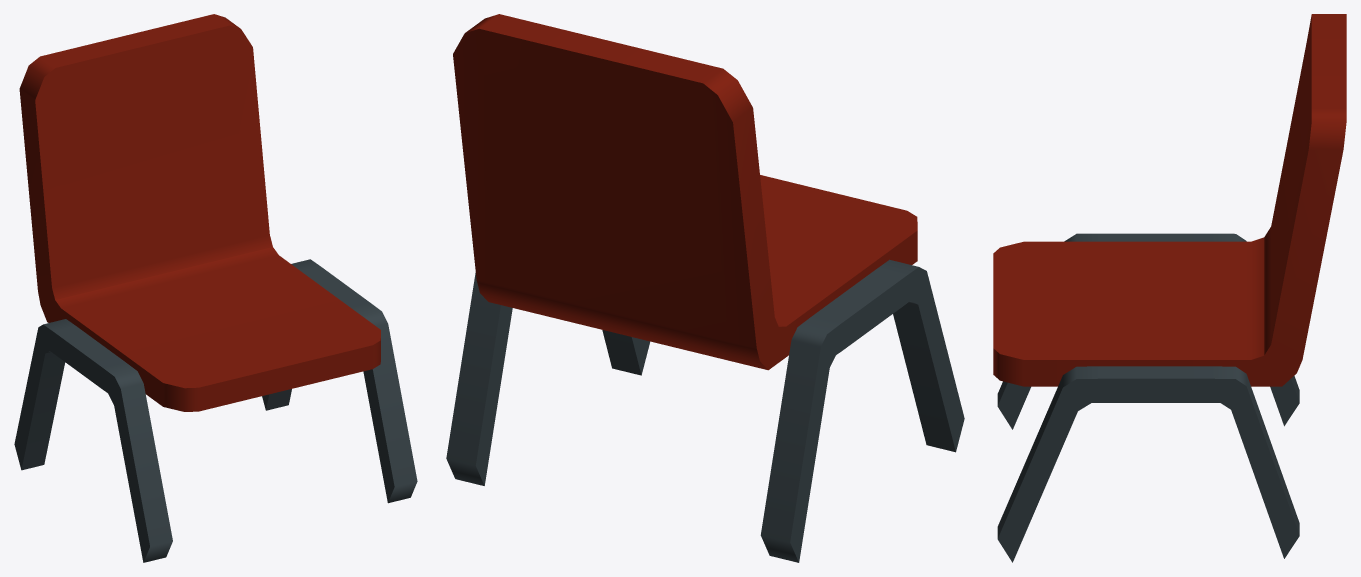
File: SM_Chair.fbx
The picture shows the model from 3 angles, left to right: view 1: azimuth 30°, elevation 25°; view 2: azimuth 150°, elevation 25°; view 3: azimuth 270°, elevation 25°; orthographic projection. The views are drawn at different scales.
Parts seen in each view (by area): view 1: SM_Chair; view 2: SM_Chair; view 3: SM_Chair.
Part boxes in pixels (box(x1,y1,x2,y2)): SM_Chair: box(14, 14, 417, 562); SM_Chair: box(446, 14, 964, 562); SM_Chair: box(993, 14, 1346, 562).
Bounding box in the file's own units: 0.6402 × 0.8815 × 0.6578.
Materials: 1 (1 with a texture image).
